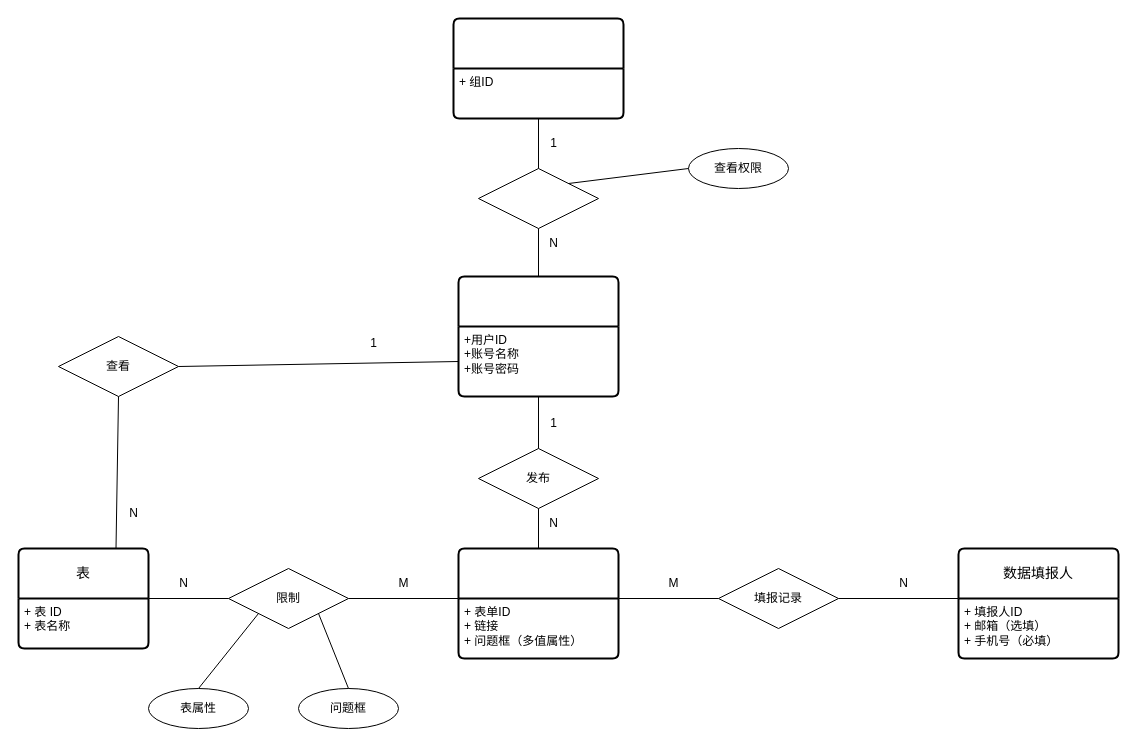
This 1136x746 diagram has some shape labels left out. The shapes that lost their labels are listed below. From the top down, each one's box as (x1, y1, x2, y2) in pixels, then its label:
(452, 17, 624, 119): 数据管理员组（用户组）
(478, 168, 598, 228): 组成
(457, 275, 619, 397): 数据管理员（用户）
(457, 547, 619, 659): 表单
